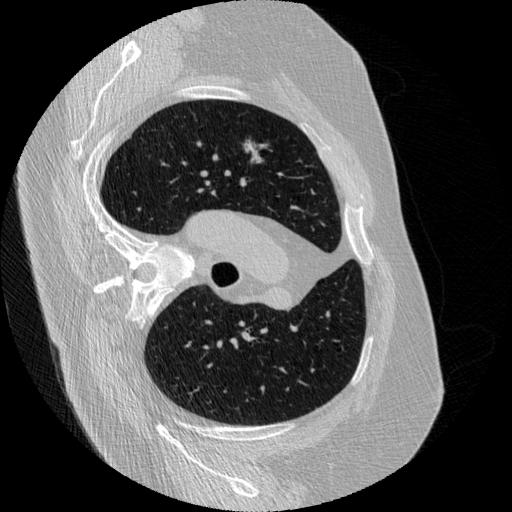nodule: (240, 137, 269, 166)
